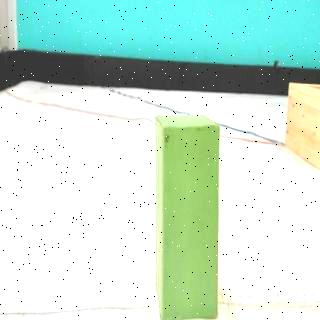greenbox: (151, 111, 222, 320)
